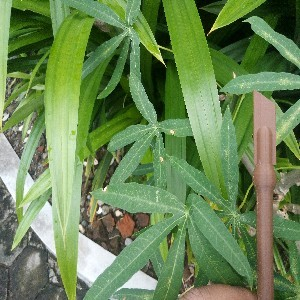cutter: (251, 88, 278, 300)
